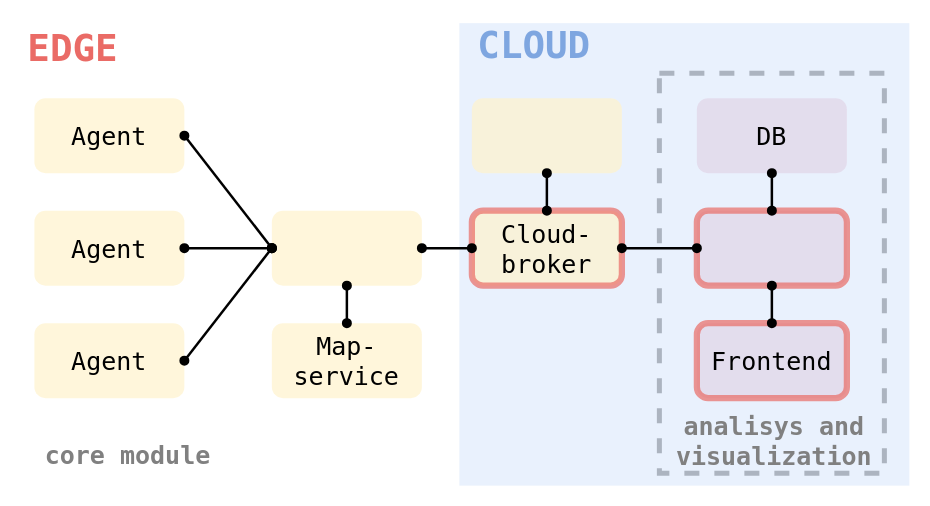
The diagram is 930 pixels wide and 506 high, and some of its shapes have lost their labels. Here are the shapes that lost their labels. From the top down, the centre of each, then its label:
the point at 546,135: Cloud-agent
the point at 346,247: Local-broker
the point at 771,247: Backend
